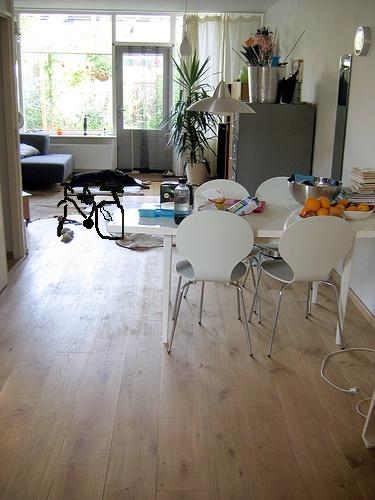tampered: (57, 181, 124, 240)
